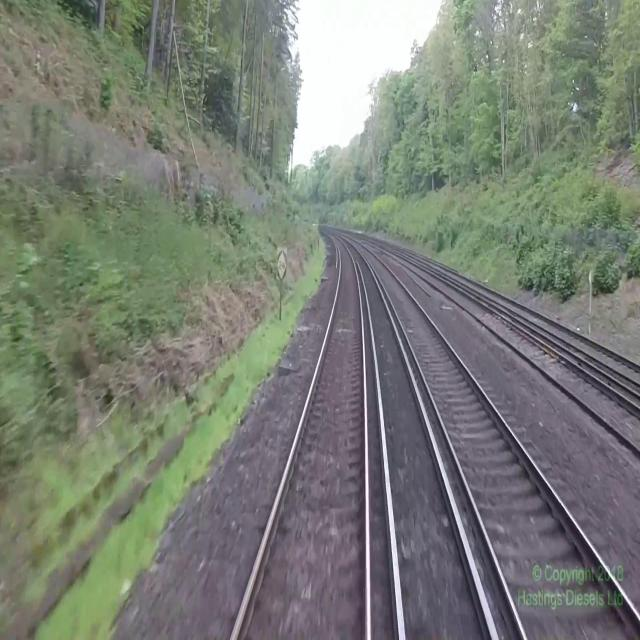rail-track: (339, 233, 640, 639), (234, 231, 366, 639), (347, 232, 640, 404)
